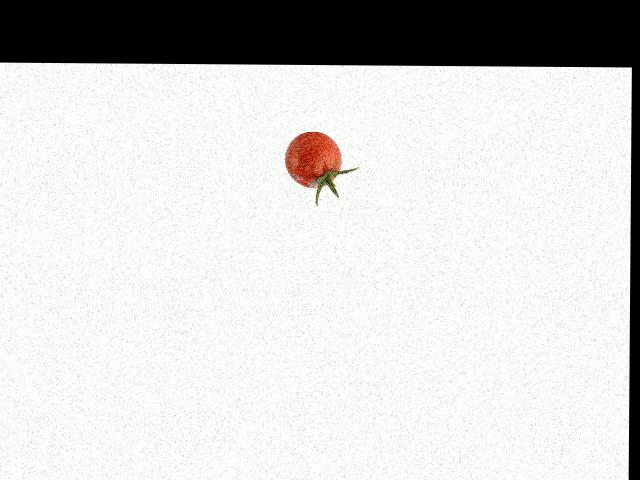tomato: (284, 130, 340, 187)
